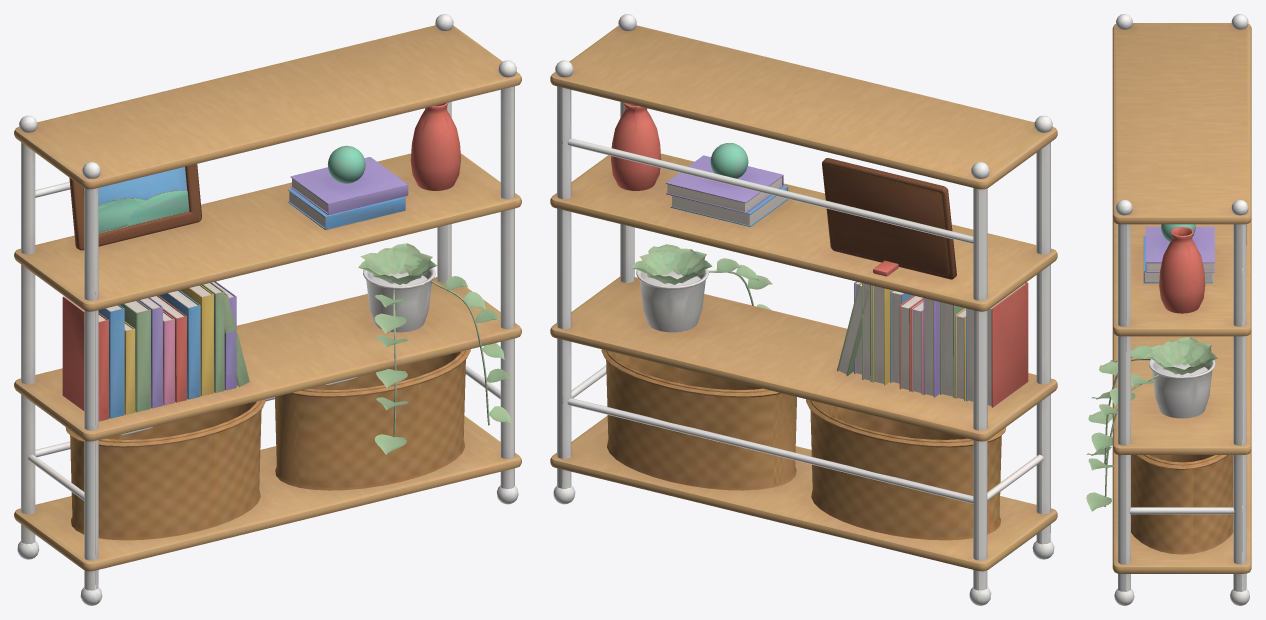
File: shelf-unit-light.glb
The picture shows the model from 3 angles, left to right: view 1: azimuth 30°, elevation 25°; view 2: azimuth 150°, elevation 25°; view 3: azimuth 270°, elevation 25°; orthographic projection. The views are drawn at different scales.
Visible parts, largest first — view 1: shelf-unit_body; view 2: shelf-unit_body; view 3: shelf-unit_body.
Boxes of the visible parts, x1,y1,x2,y2 form: shelf-unit_body: (14, 14, 521, 605); shelf-unit_body: (550, 14, 1057, 605); shelf-unit_body: (1086, 14, 1251, 605).
Size of the model in its own units: 1.2 by 1.16 by 0.4286.
1 material, 1 textured.
